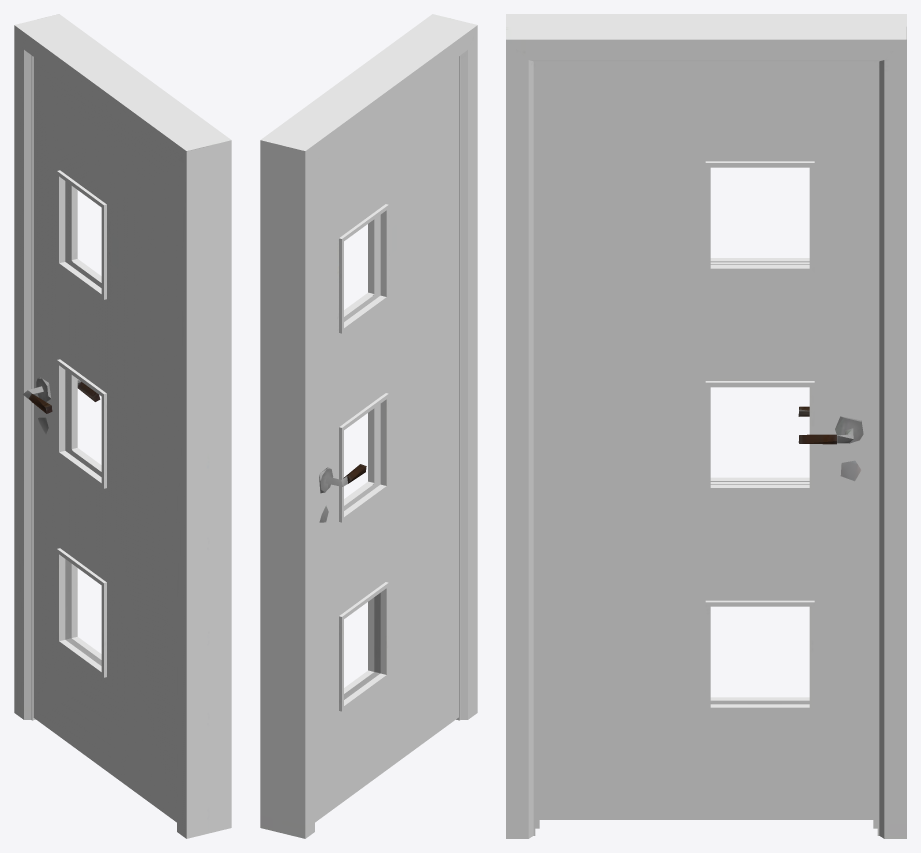
File: Door0025.obj
3 renders of one model, left to right at view 1: azimuth 30°, elevation 25°; view 2: azimuth 150°, elevation 25°; view 3: azimuth 270°, elevation 25°, orthographic. The views are drawn at different scales.
Bounding box in the file's own units: 0.196 × 2.12 × 0.964.
1 material, 1 textured.
